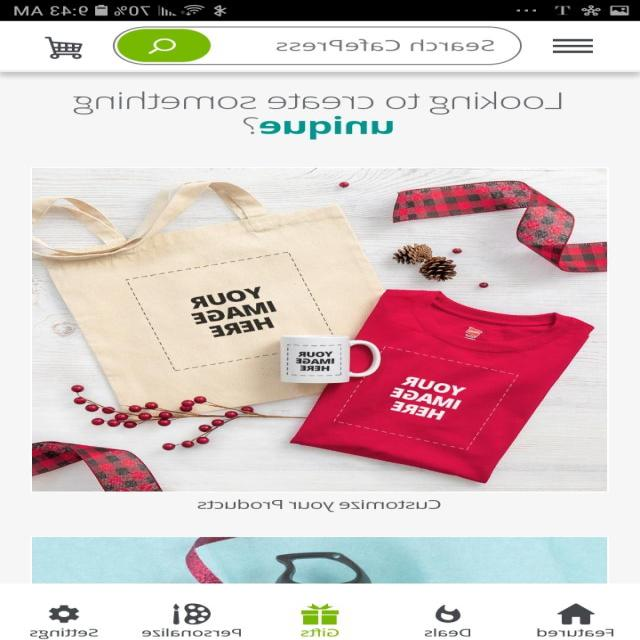EditText: (111, 26, 523, 66)
Icon: (118, 29, 211, 62), (44, 36, 84, 59), (302, 603, 339, 625), (558, 603, 596, 624), (552, 39, 594, 53), (49, 604, 81, 622), (434, 604, 462, 623)
Image: (33, 167, 607, 492), (33, 536, 608, 583), (174, 602, 212, 624)
Text: (73, 91, 561, 140), (197, 499, 441, 512), (276, 38, 494, 51), (30, 628, 99, 640), (142, 628, 242, 636), (536, 628, 614, 636), (424, 628, 471, 636), (302, 628, 339, 636)
